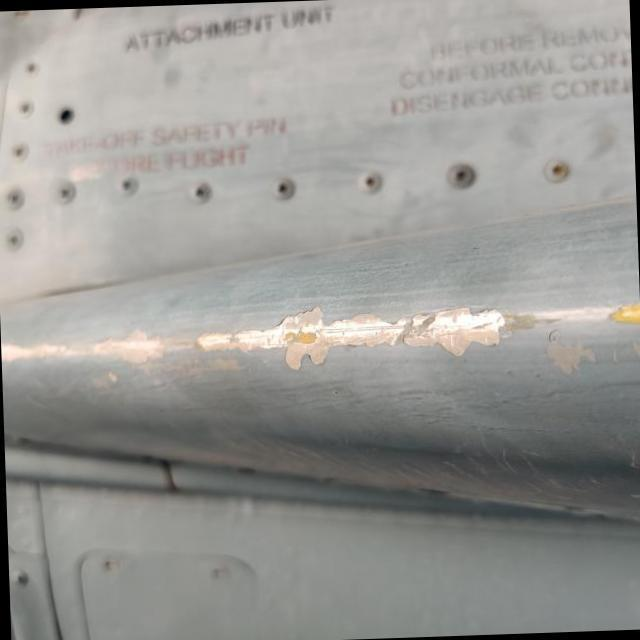Missing Fastener: (50, 104, 80, 125)
